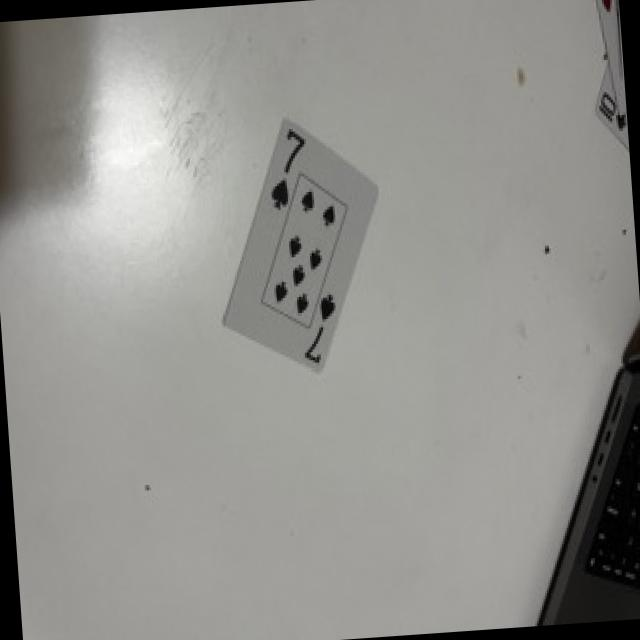7 of spades: (223, 123, 376, 369)
